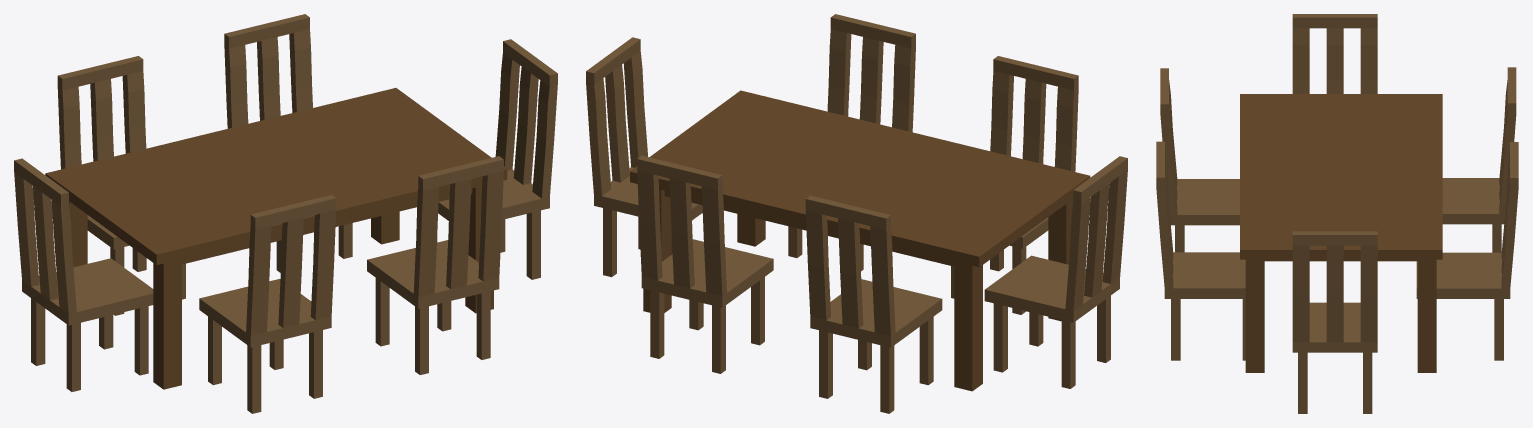
3 views of the same model, side by side, from view 1: azimuth 30°, elevation 25°; view 2: azimuth 150°, elevation 25°; view 3: azimuth 270°, elevation 25° (orthographic). The views are drawn at different scales.
Visible parts, largest first — view 1: Plane, Plane.004, Plane.001, Plane.006, Plane.003, Plane.007, Plane.005; view 2: Plane, Plane.007, Plane.005, Plane.006, Plane.003, Plane.001, Plane.004; view 3: Plane, Plane.003, Plane.004, Plane.005, Plane.001, Plane.006, Plane.007.
Part boxes in pixels (x1,y1,x2,y2): Plane: (45,88,507,389); Plane.004: (367,156,503,374); Plane.001: (199,195,336,413); Plane.006: (14,158,153,391); Plane.003: (437,39,557,279); Plane.007: (57,56,185,315); Plane.005: (224,14,352,272); Plane: (630,90,1090,391); Plane.007: (805,195,942,413); Plane.005: (637,155,773,373); Plane.006: (984,156,1127,388); Plane.003: (586,37,702,277); Plane.001: (951,56,1078,314); Plane.004: (788,14,915,271); Plane: (1240,94,1442,372); Plane.003: (1292,231,1377,413); Plane.004: (1156,141,1245,360); Plane.005: (1416,142,1518,360); Plane.001: (1160,68,1239,252); Plane.006: (1292,14,1377,93); Plane.007: (1442,67,1516,252).
Size of the model in its own units: 1080 by 422 by 748.
